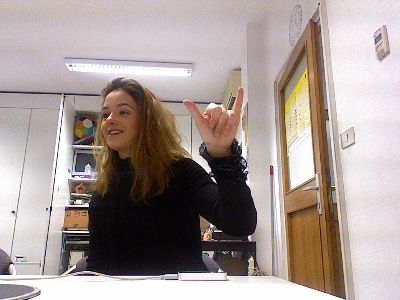六六六: (181, 85, 244, 149)
